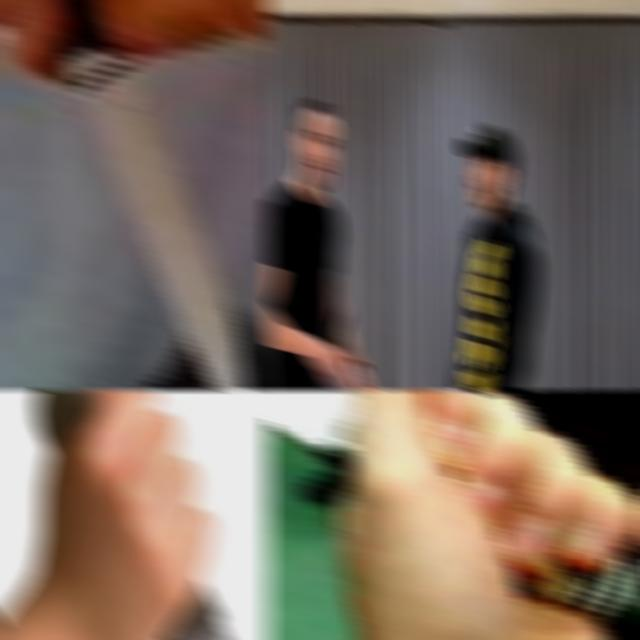Knife_Handle: (0, 0, 250, 391), (264, 389, 640, 640), (26, 389, 272, 640), (301, 304, 350, 391)
